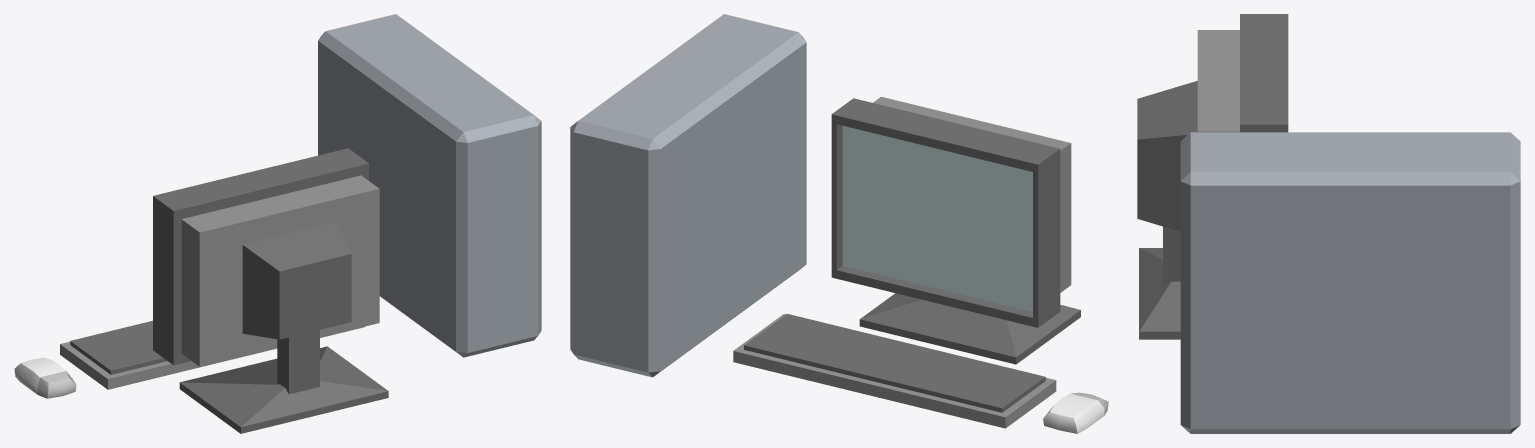
File: Computer lv1.fbx
3 views of the same model, side by side, from view 1: azimuth 30°, elevation 25°; view 2: azimuth 150°, elevation 25°; view 3: azimuth 270°, elevation 25° (orthographic). The views are drawn at different scales.
Parts seen in each view (by area): view 1: Computer_lv1; view 2: Computer_lv1; view 3: Computer_lv1.
Boxes of the visible parts, x1=… form: Computer_lv1: x1=14, y1=14, x2=541, y2=433; Computer_lv1: x1=570, y1=14, x2=1108, y2=433; Computer_lv1: x1=1137, y1=14, x2=1520, y2=433.
Bounding box in the file's own units: 165 × 81.92 × 109.
